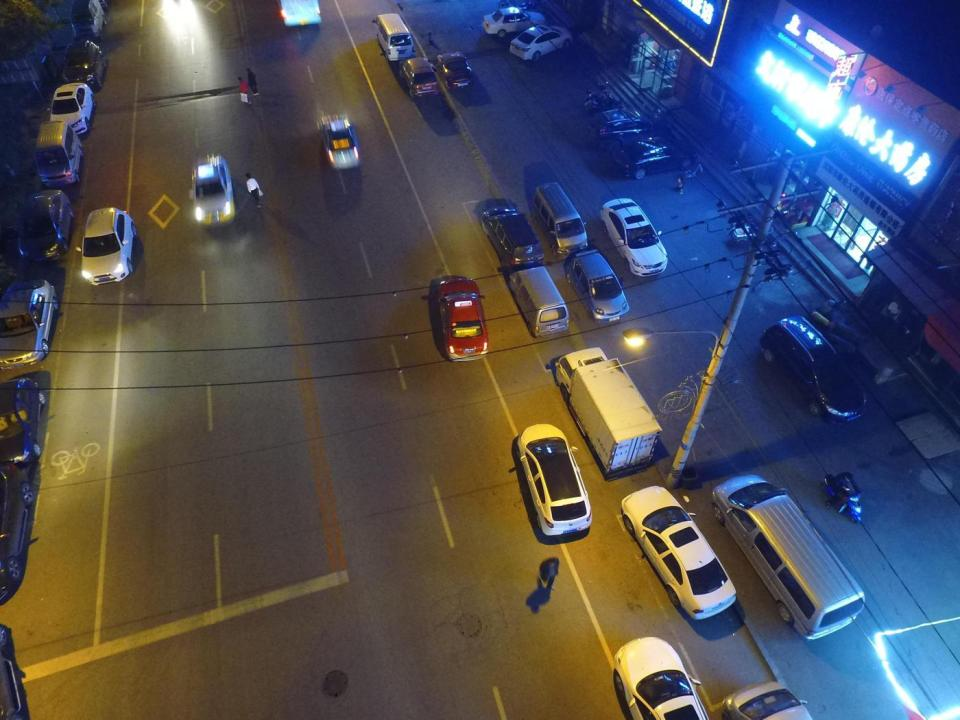bus: (279, 0, 323, 27)
car: (622, 481, 736, 621), (757, 315, 867, 422), (515, 422, 593, 537), (610, 636, 711, 720), (598, 199, 667, 278), (0, 277, 58, 370), (565, 249, 630, 322), (436, 277, 490, 361), (81, 207, 136, 288), (482, 201, 545, 271), (0, 464, 29, 604), (0, 377, 45, 466), (18, 190, 72, 264), (719, 678, 814, 719), (191, 154, 235, 227), (590, 107, 663, 149), (614, 136, 689, 176), (319, 114, 361, 171), (50, 82, 96, 134), (0, 624, 25, 719), (510, 25, 573, 62), (63, 41, 104, 88), (482, 8, 546, 36), (398, 57, 438, 99), (436, 51, 472, 91)
truck: (554, 346, 660, 477)
van: (711, 475, 864, 639), (507, 266, 570, 339), (530, 182, 588, 259), (35, 121, 84, 187), (371, 13, 416, 61), (70, 0, 106, 41)
